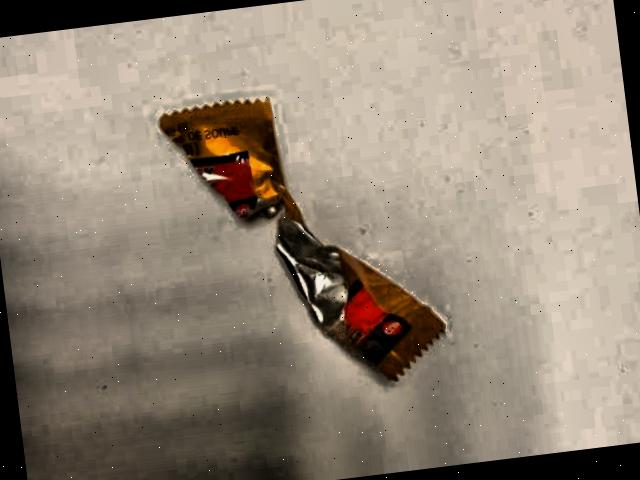Plastic: (126, 47, 492, 423)
